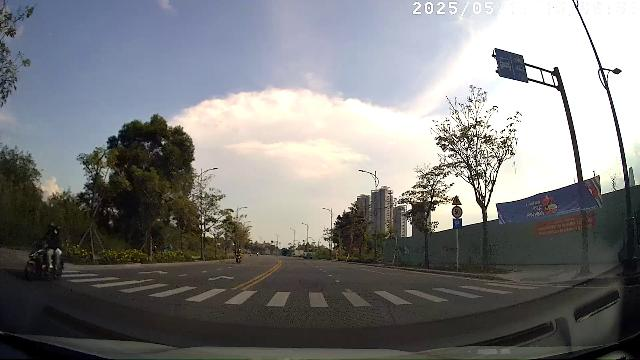127-toc-do-toi-da-50: (451, 207, 463, 218)
